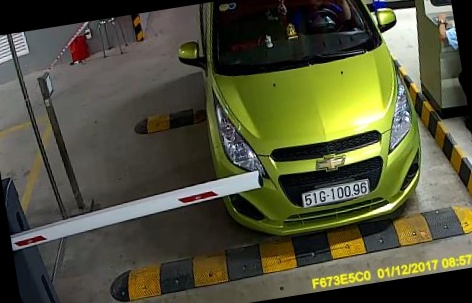plate: (292, 178, 374, 213)
